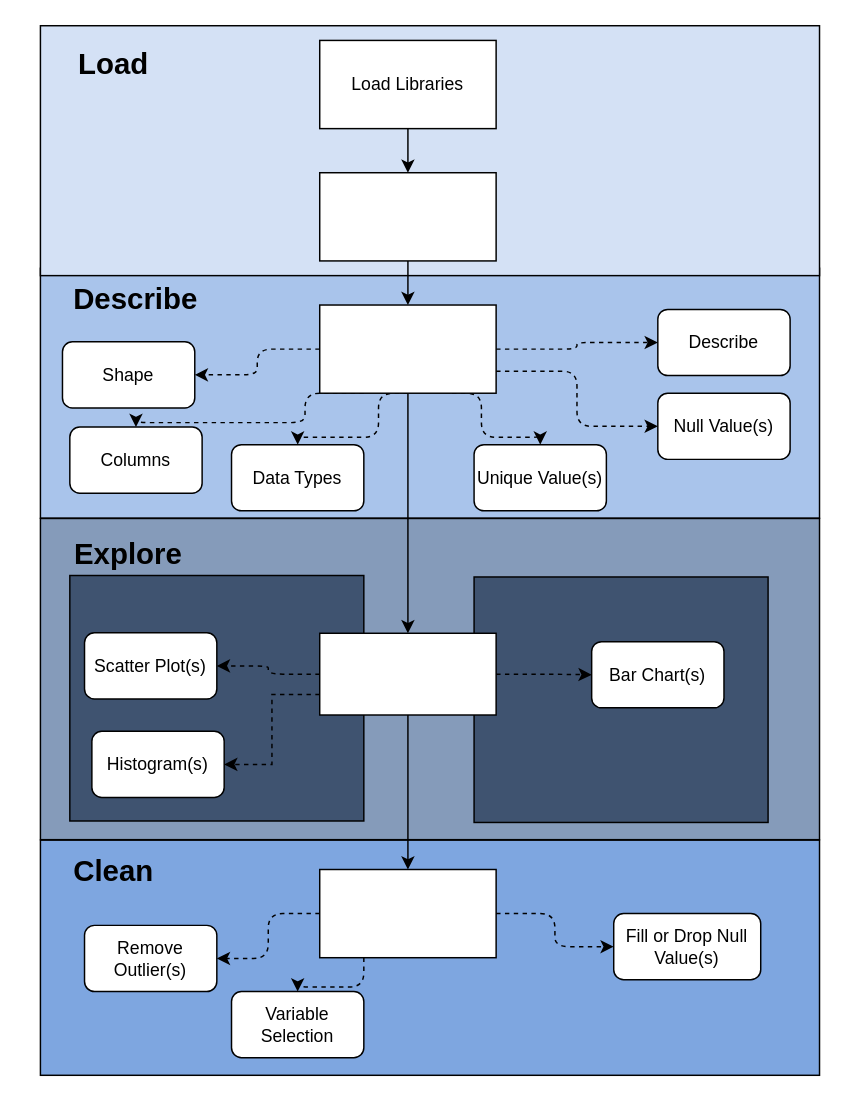
Some shapes in this 845 by 1101 pixel diagram are drawn without their labels. Each missing label, with the box of its shape:
Clean / Transform Data: (318, 868, 496, 958)
Describe Data: (318, 304, 496, 393)
Explore Relationship(s): (318, 632, 496, 715)
Import Data: (318, 171, 496, 261)
Qualitative: (473, 576, 768, 822)
Quantitative: (68, 574, 364, 821)
